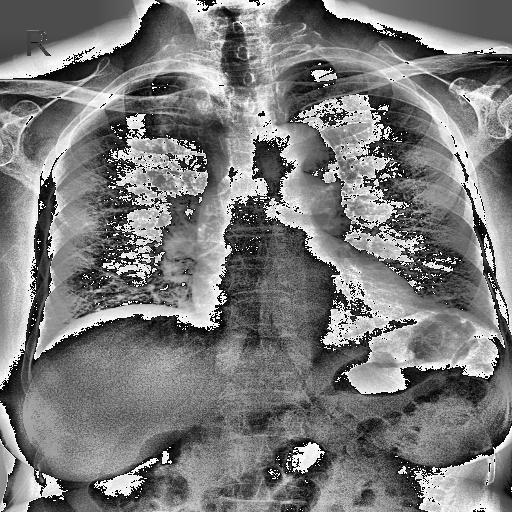0- Aortic enlargement: (261, 126, 341, 205), (264, 122, 341, 195), (264, 124, 344, 192)
5- ILD: (34, 180, 150, 354), (400, 158, 500, 332)
